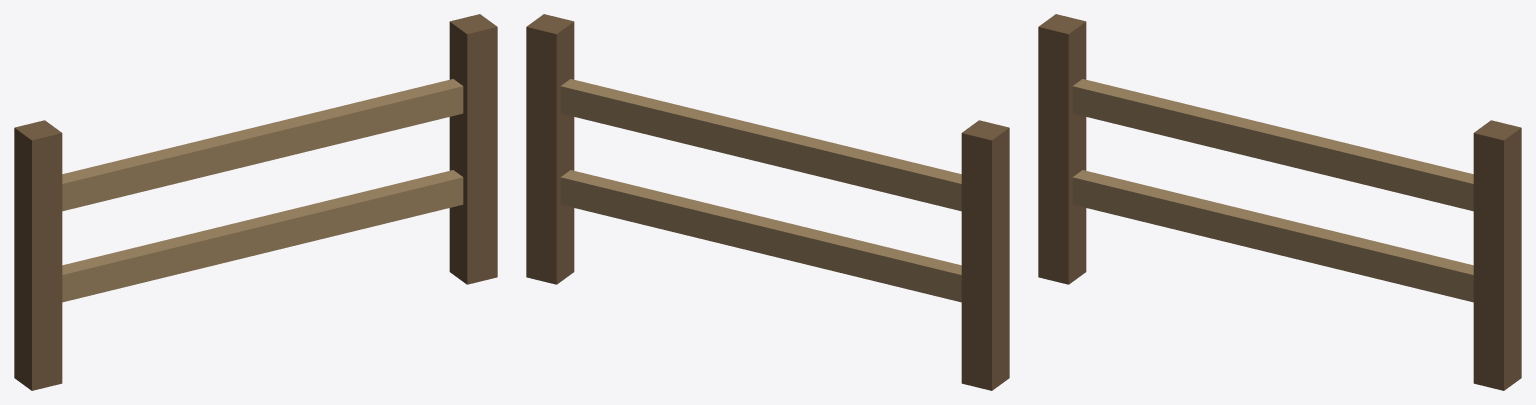
Rendered from TW_EXAMPLE_SLOPE_0_LOD0.glb.
The picture shows the model from 3 angles, left to right: view 1: azimuth 30°, elevation 25°; view 2: azimuth 150°, elevation 25°; view 3: azimuth 330°, elevation 25°; orthographic projection.
Visible parts, largest first — view 1: TW_EXAMPLE_SLOPE_0_LOD0; view 2: TW_EXAMPLE_SLOPE_0_LOD0; view 3: TW_EXAMPLE_SLOPE_0_LOD0.
Part boxes in pixels (<box>): TW_EXAMPLE_SLOPE_0_LOD0: <box>14,14,497,390</box>; TW_EXAMPLE_SLOPE_0_LOD0: <box>526,14,1009,390</box>; TW_EXAMPLE_SLOPE_0_LOD0: <box>1038,14,1521,390</box>.
Bounding box in the file's own units: 2.14 × 1.1 × 0.14.
1 material, 1 textured.
